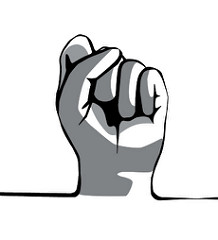fist: (52, 39, 166, 164)
